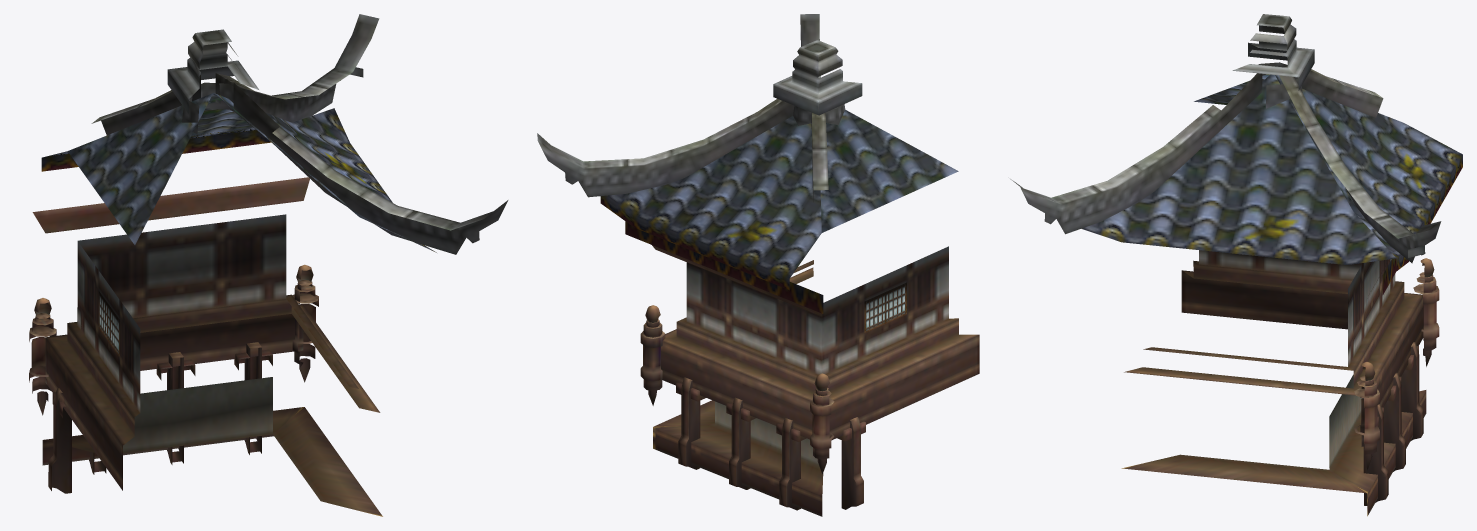
File: S2_Build_XSC016_H7.FBX
3 views of the same model, side by side, from view 1: azimuth 30°, elevation 25°; view 2: azimuth 150°, elevation 25°; view 3: azimuth 270°, elevation 25° (orthographic). The views are drawn at different scales.
Parts seen in each view (by area): view 1: S2_Build_XSC016_H7; view 2: S2_Build_XSC016_H7; view 3: S2_Build_XSC016_H7.
Boxes of the visible parts, left/top/right/bottom form: S2_Build_XSC016_H7: left=29, top=14, right=508, bottom=516; S2_Build_XSC016_H7: left=537, top=14, right=979, bottom=516; S2_Build_XSC016_H7: left=1010, top=14, right=1462, bottom=516.
Bounding box in the file's own units: 1243 × 1463 × 1366.
